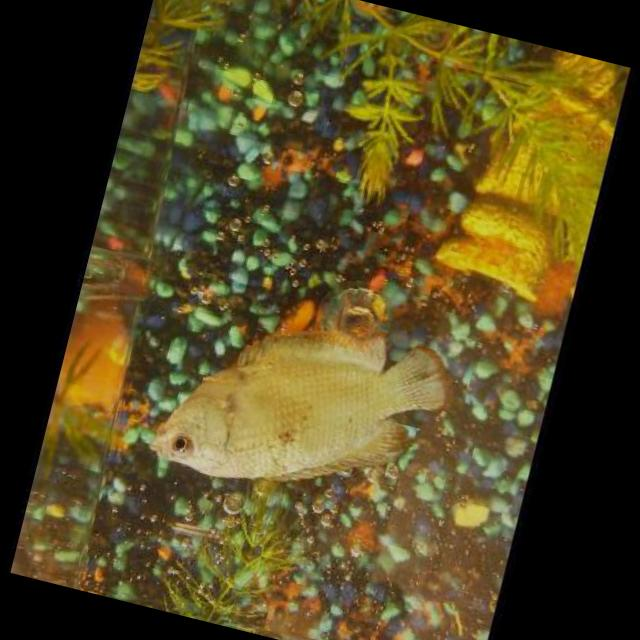Gourami: (140, 281, 463, 534)
